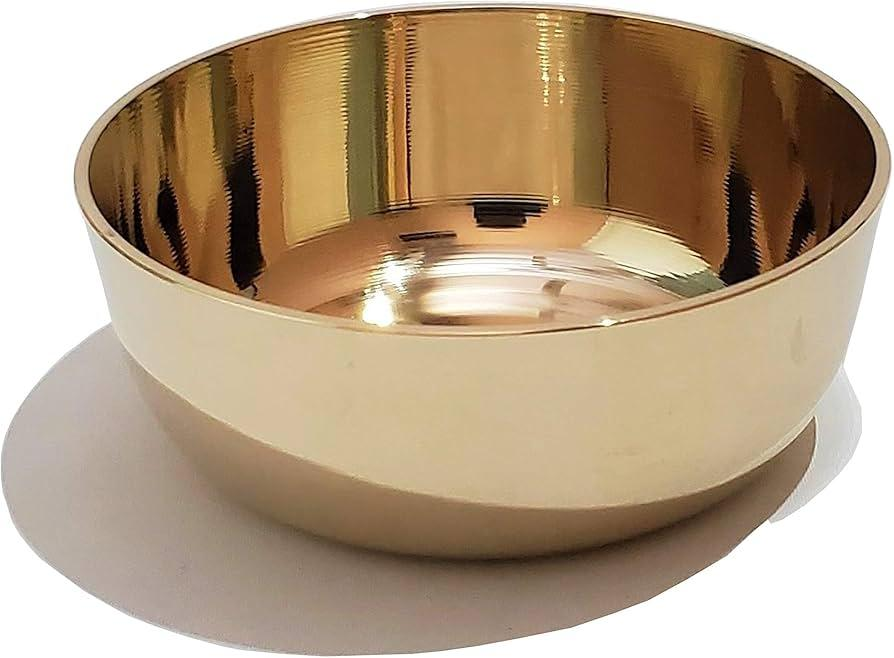bowl: (68, 0, 890, 566)
